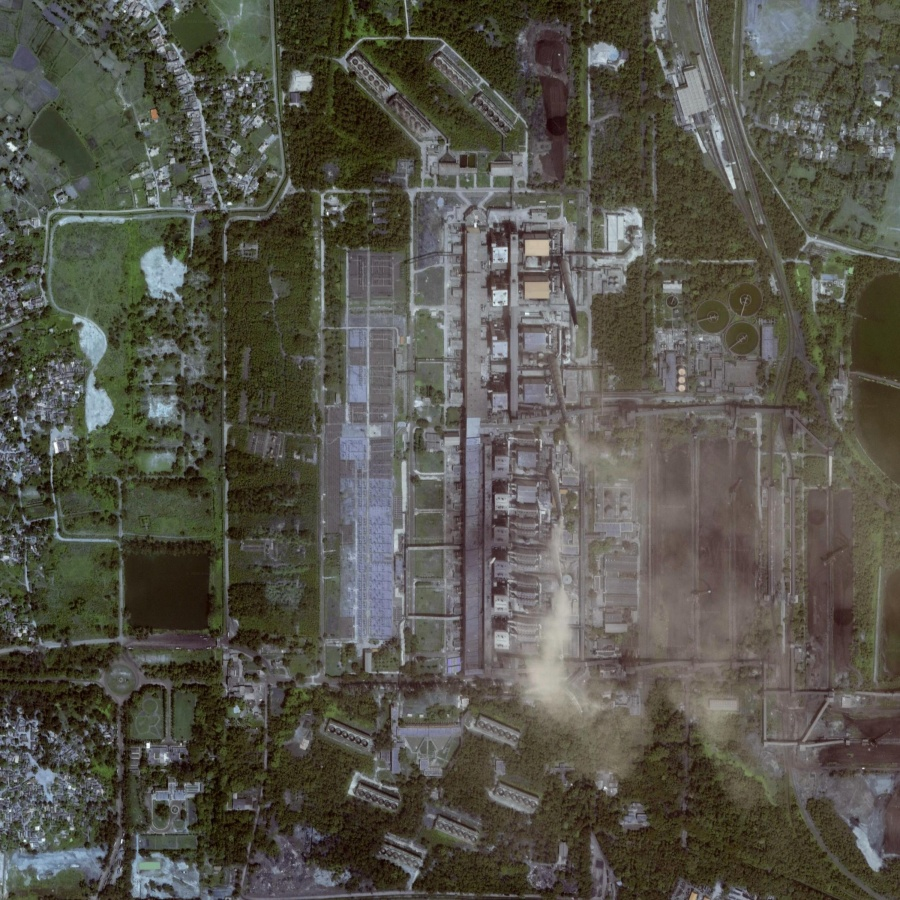PowerPlant: (535, 408, 866, 729)
